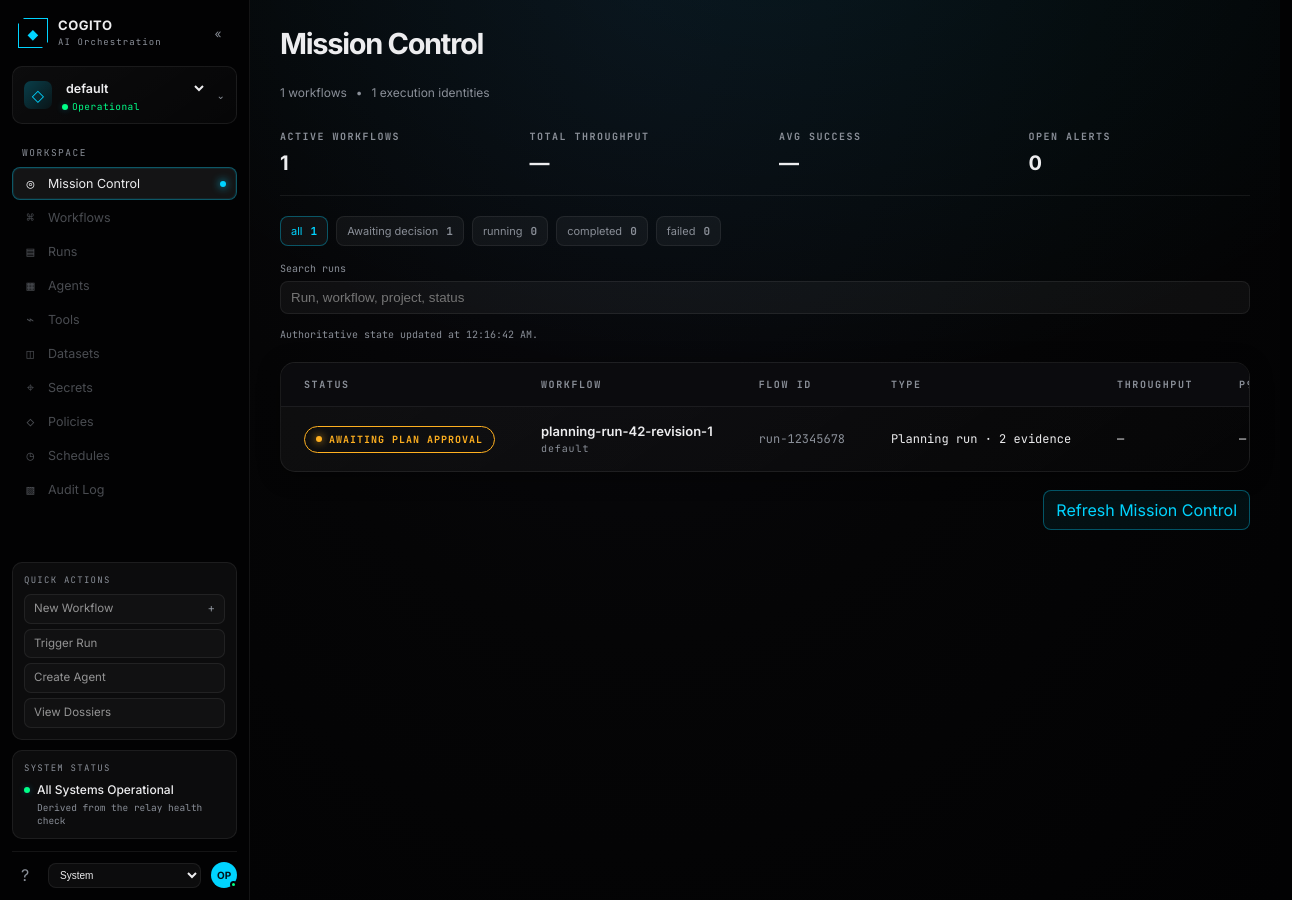
Test case: presents Mission Control with filterable authoritative workflow identity
The image size is (1292, 900).
Expected: the heading "Mission Control" is shown, [280,26,483,61]
Expected: the text "COGITO" is shown, [58,17,112,33]
Click the button named "Collapse sidebar". click: (218, 33)
box: [205,20,231,46]
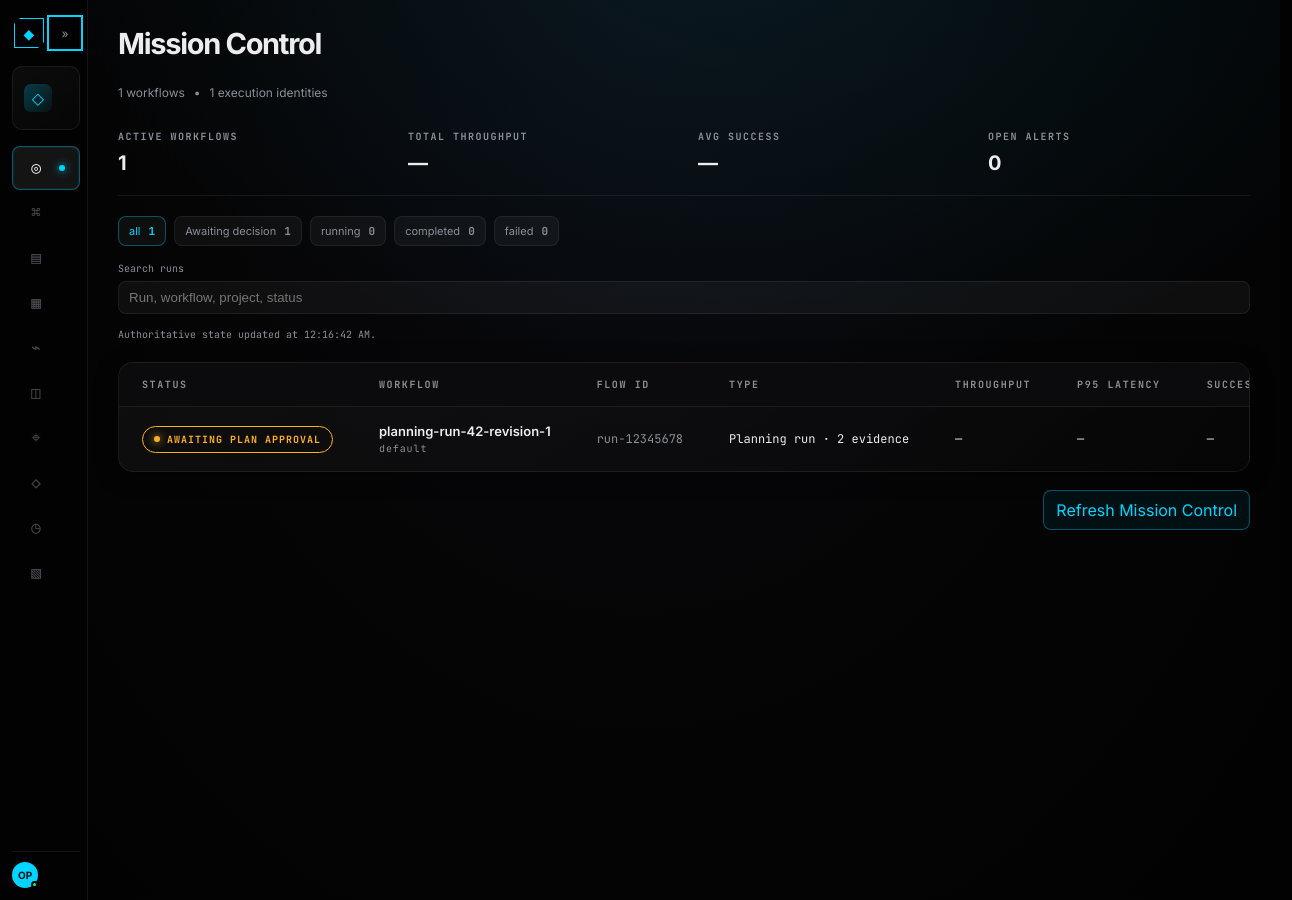
Expected: the button named "Expand sidebar" is shown
Click the button named "Expand sidebar". click: (65, 33)
box: [52,20,78,46]
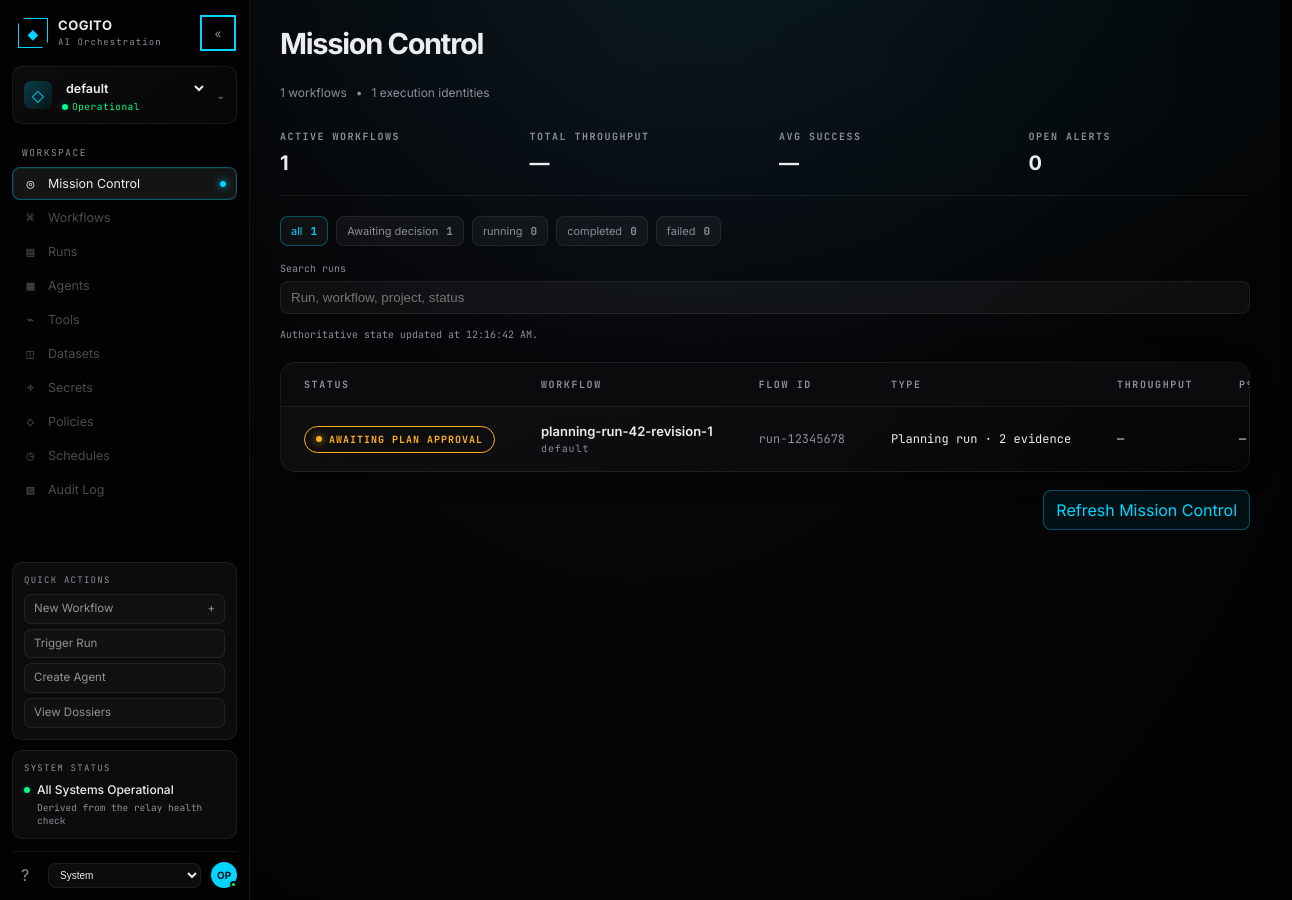
Expected: the text "Authoritative state updated at 12:16:42 AM." is shown once, [280,328,538,341]
Expected: the button "⌘ Workflows" is disabled, [12,201,237,234]
Click the tab "Awaiting decision 1". click: (400, 231)
box: [336,216,464,246]
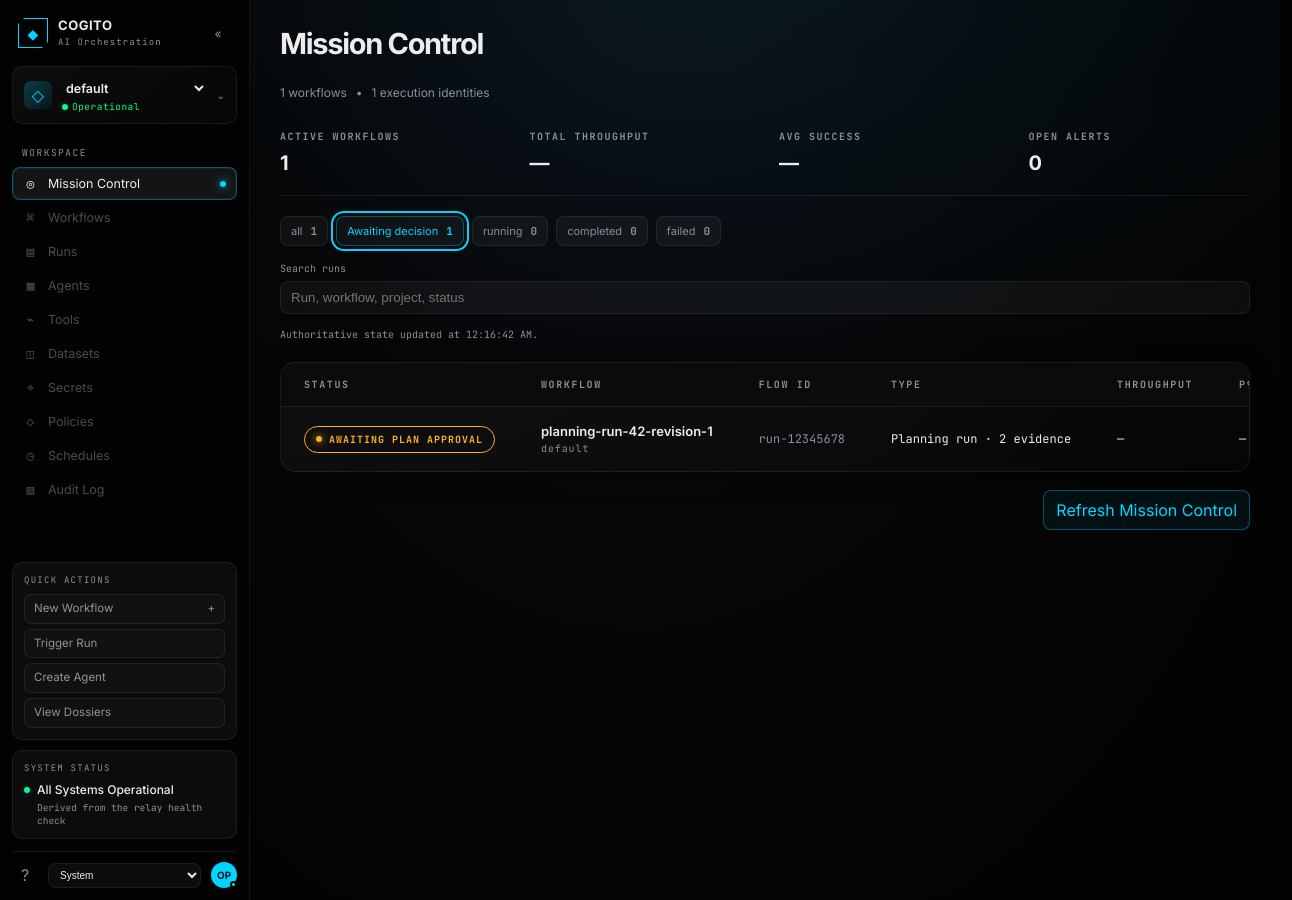
Expected: the text "run-12345678" is shown, [736,407,868,471]
Type "unrelated" into the field with placeholder "Run, workflow, project, status". click: (765, 298)
box: [280,281,1250,314]
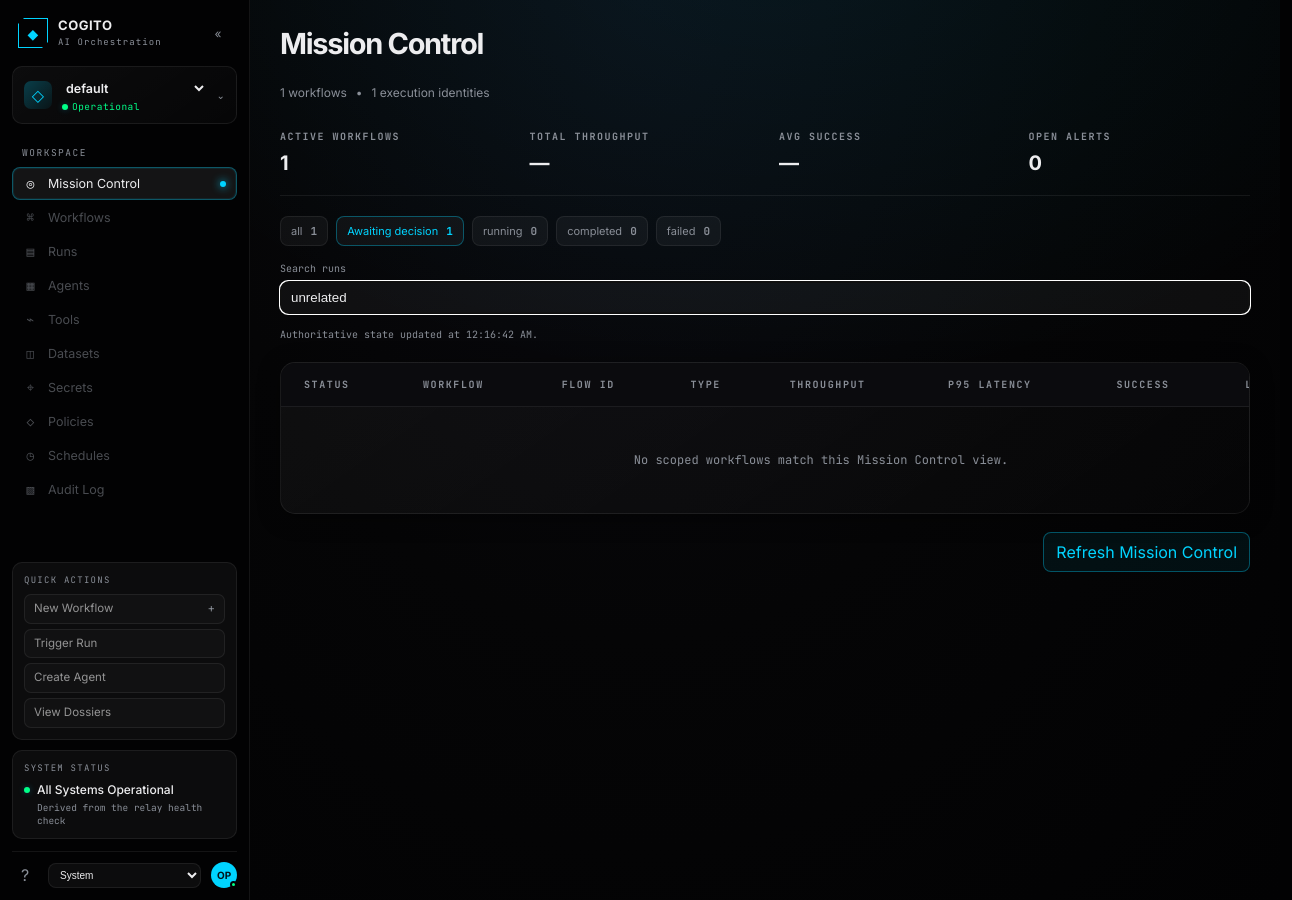
Expected: the text "No scoped workflows match this Mission Control view." is shown, [281,407,1250,513]
